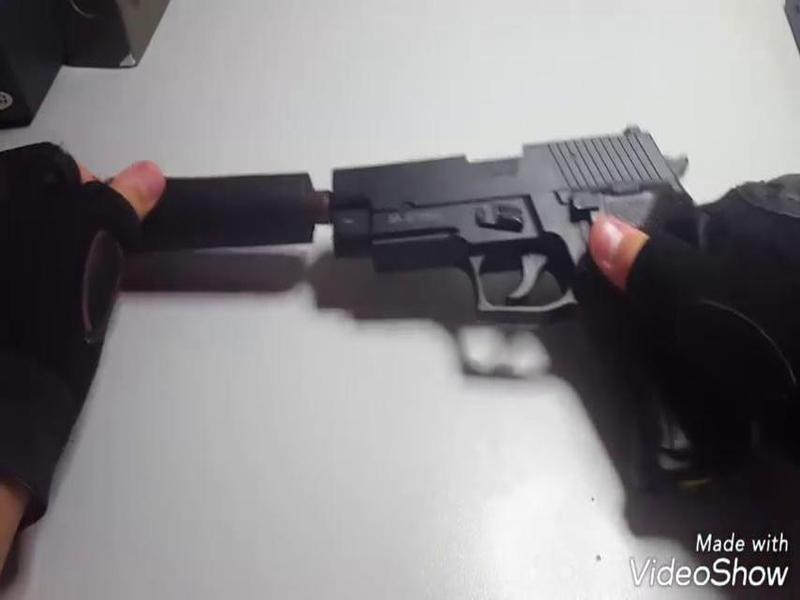Pistola: (319, 135, 774, 494)
